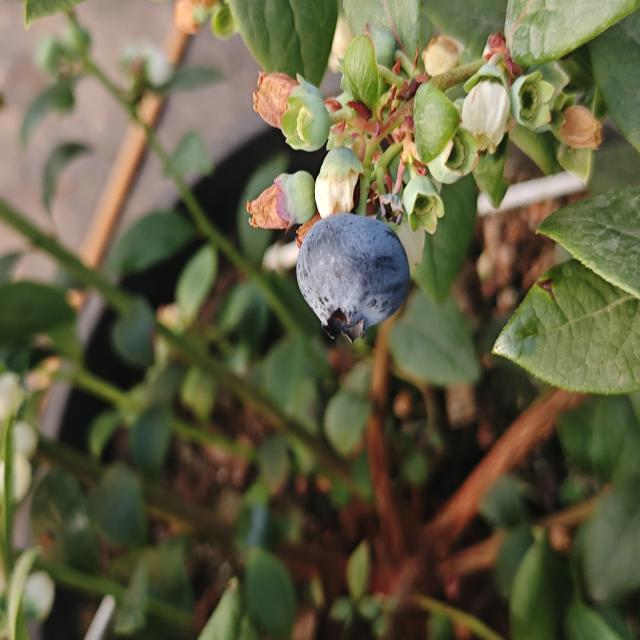ripe: (293, 210, 412, 346)
